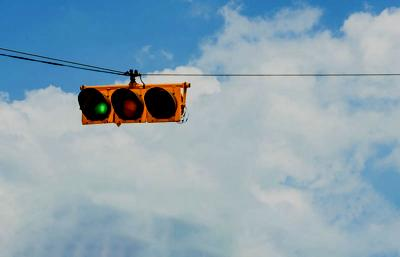International Road Signal Light: (76, 79, 190, 128)
